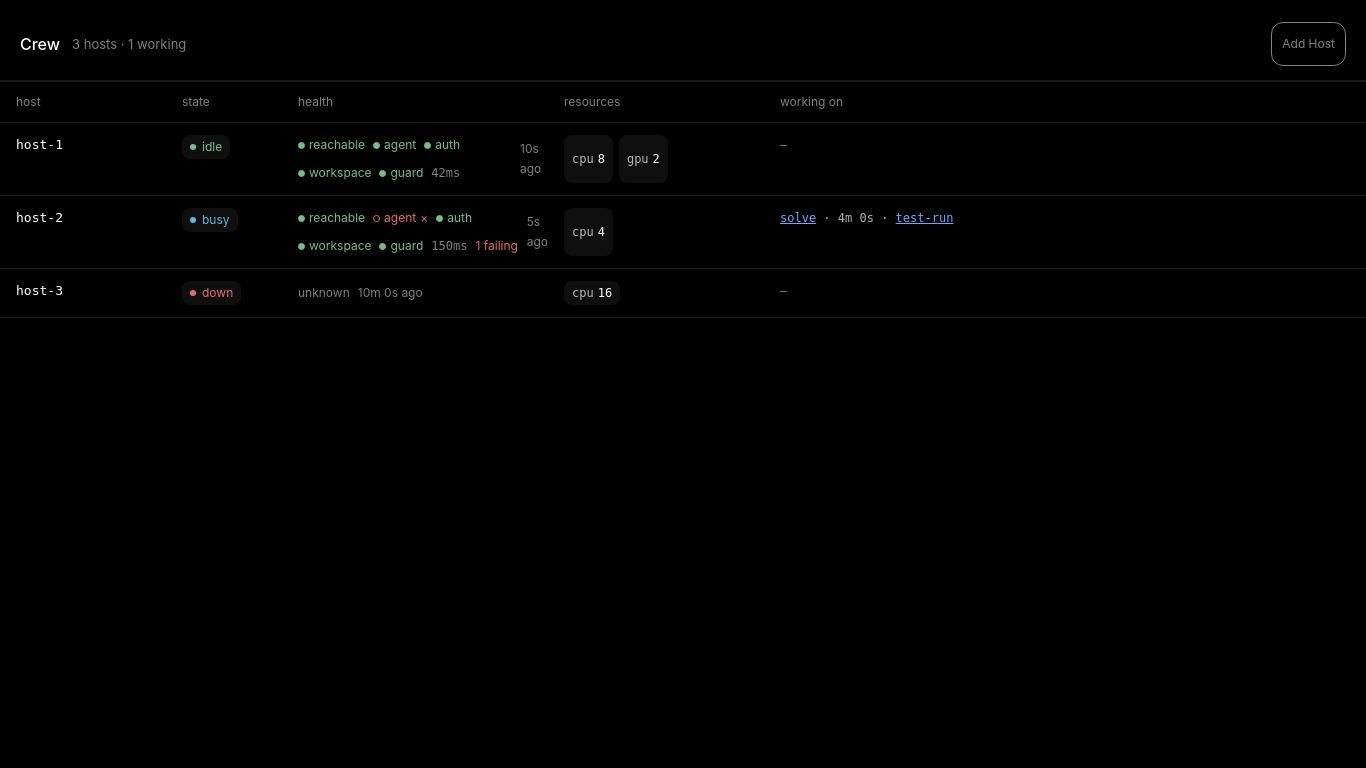
Test: CrewPanel › should show empty state when host has no active leases
Expected: the text "host-1" is shown, [16,137,63,152]
Click the button "host-1" at (39, 144), box [0,123,1365,196]
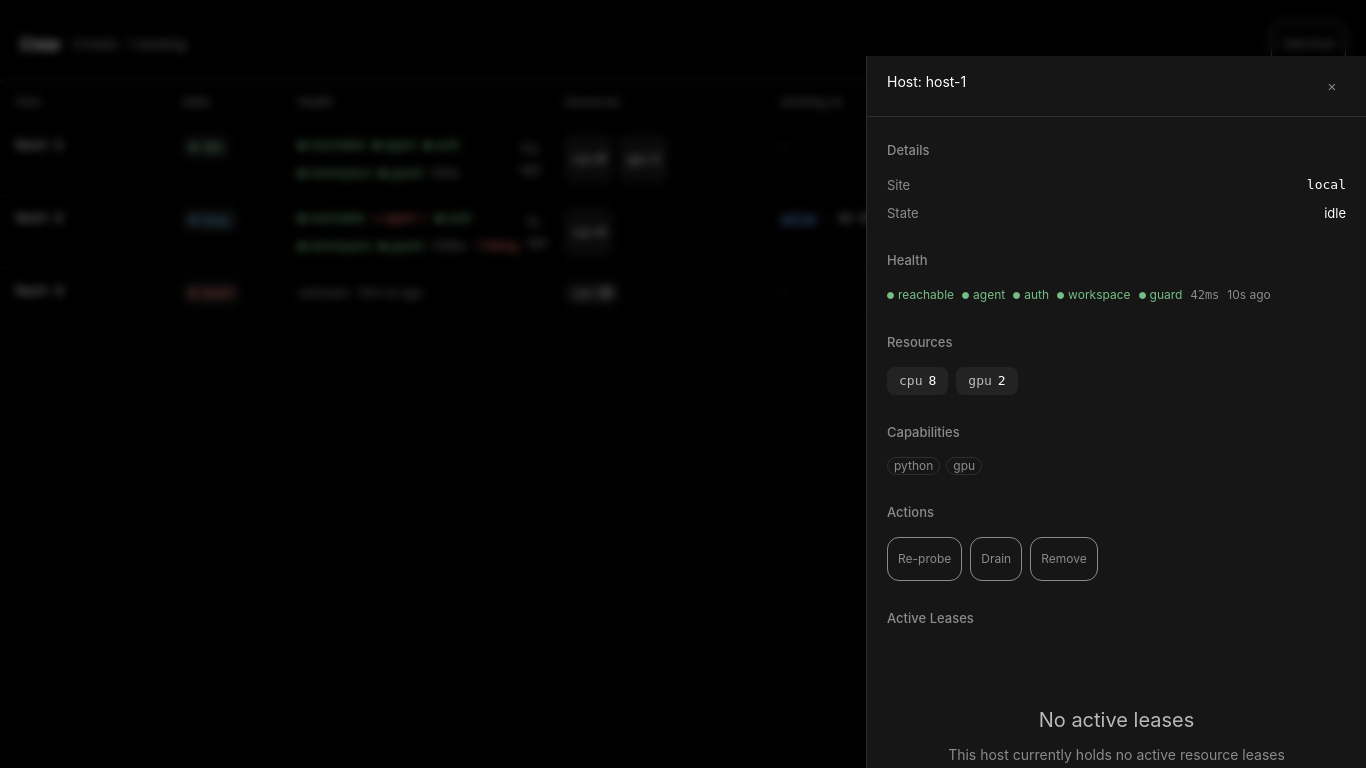
Expected: the text "No active leases" is shown, [1039,707,1194,733]
